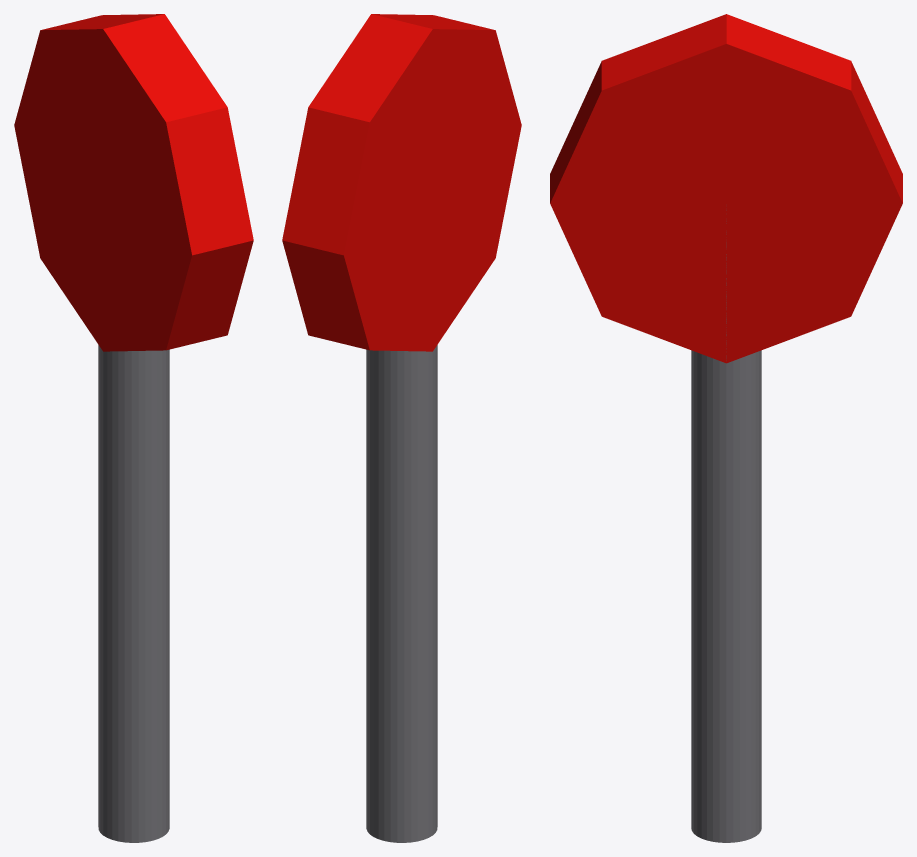
The model's file is StopSign.fbx.
3 renders of one model, left to right at view 1: azimuth 30°, elevation 25°; view 2: azimuth 150°, elevation 25°; view 3: azimuth 270°, elevation 25°, orthographic.
Visible parts, largest first — view 1: Cylinder.001; view 2: Cylinder.001; view 3: Cylinder.001.
Boxes of the visible parts, left/top/right/bottom form: Cylinder.001: left=14, top=14, right=253, bottom=842; Cylinder.001: left=282, top=14, right=521, bottom=842; Cylinder.001: left=550, top=14, right=902, bottom=842.
Bounding box in the file's own units: 10 × 125 × 50.
